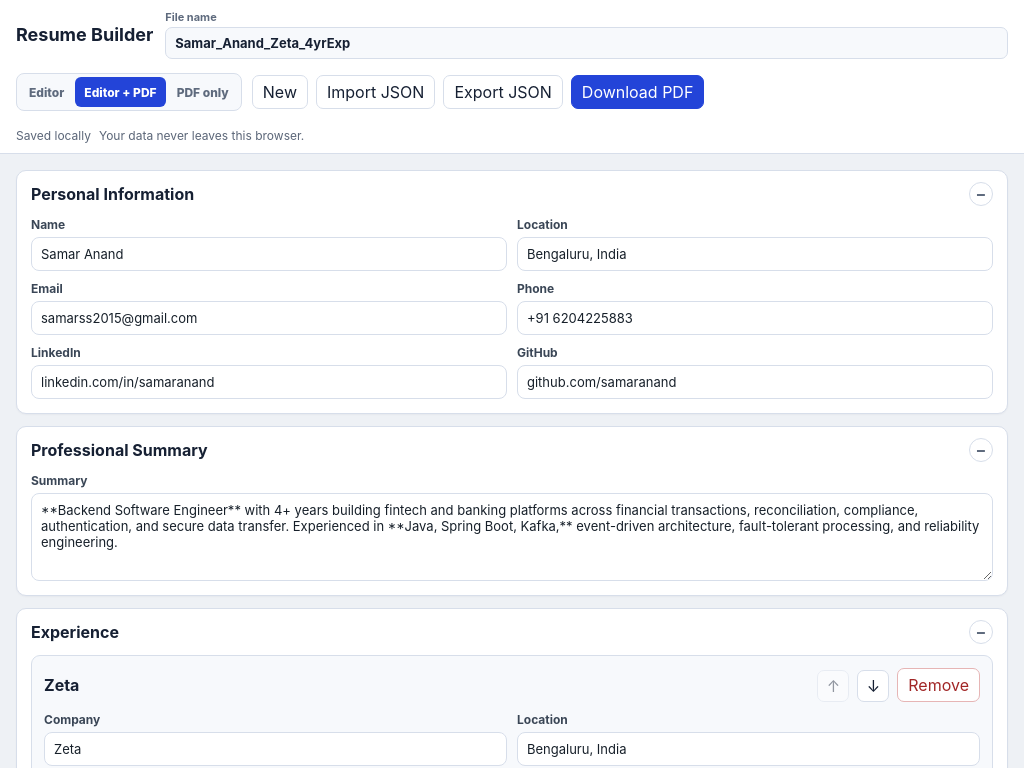
Test: App › selecting Sample Template resets to sample resume data
# First edit a field
Replace the text in the field named "Resume file name" with "My_Custom_Resume". click: [587, 43]
box: [165, 27, 1008, 59]
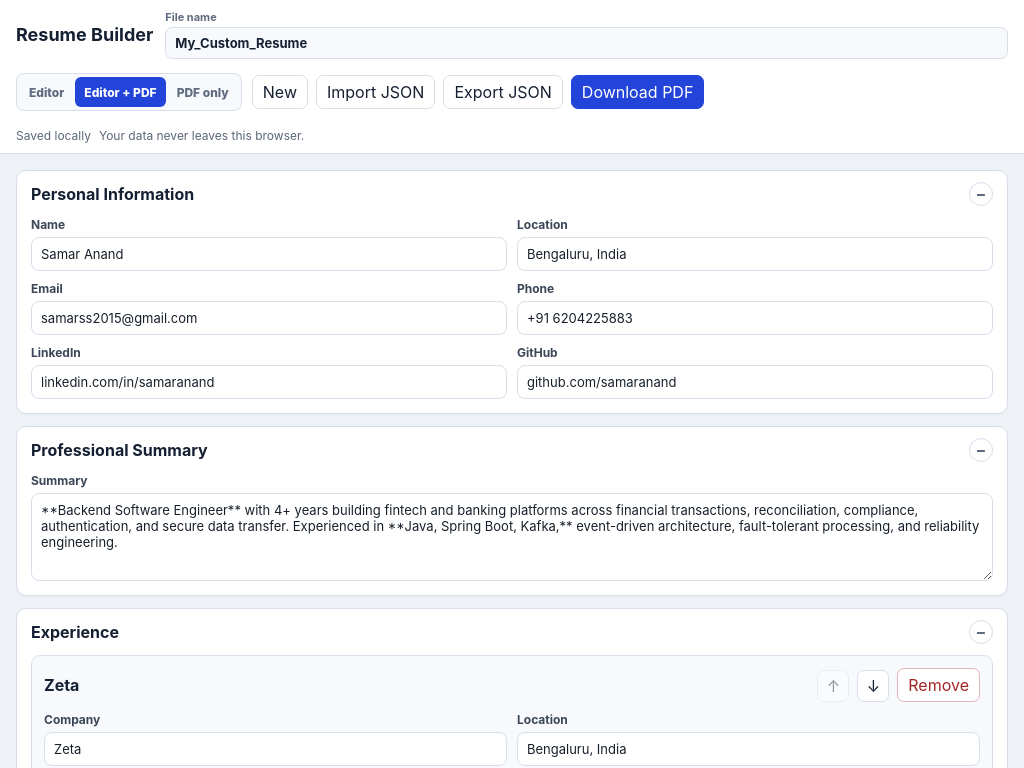
Click the button "New". click: [280, 92]
box: [252, 75, 308, 109]
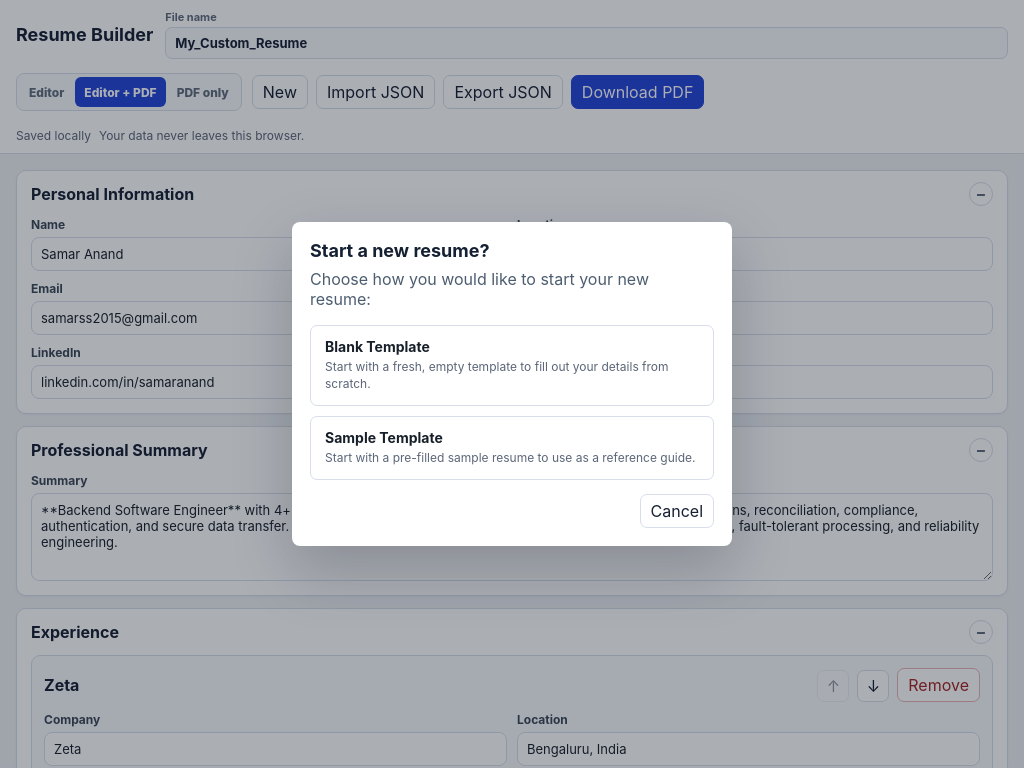
Click the button "Sample Template". click: [512, 448]
box: [310, 416, 714, 480]
(page scrolled)
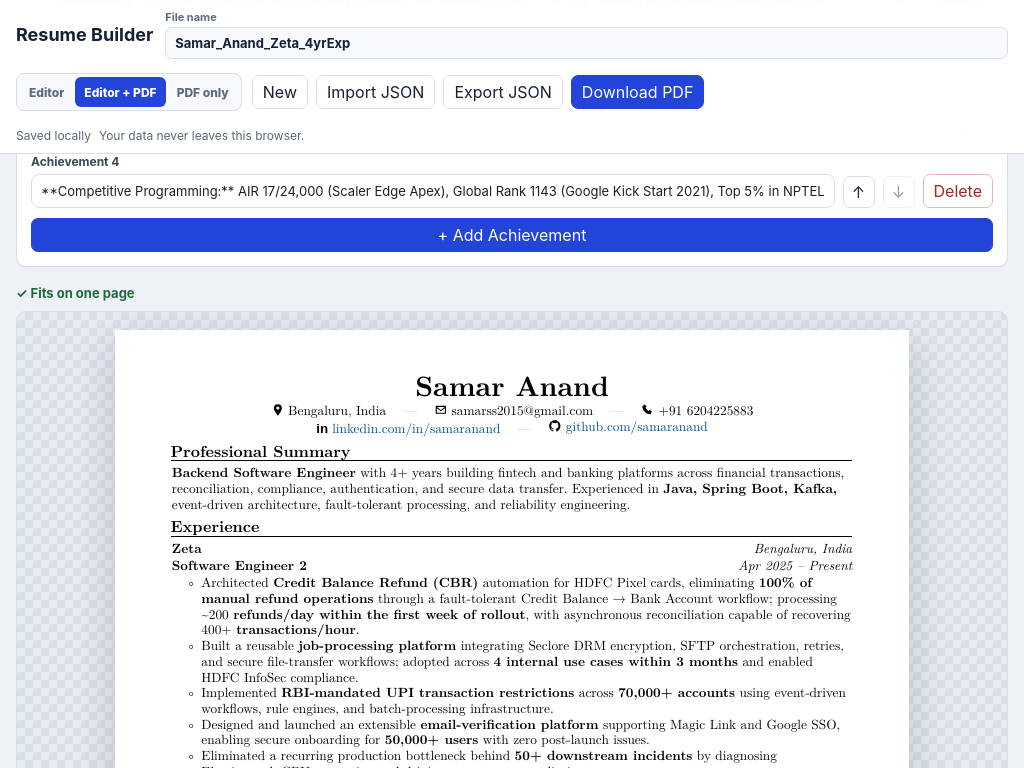
Expected: the heading "Samar Anand" is shown, [415, 364, 609, 404]
Expected: the heading "Start a new resume?" is gone
Expected: the field named "Resume file name" holds "Samar_Anand_Zeta_4yrExp", [165, 27, 1008, 59]
